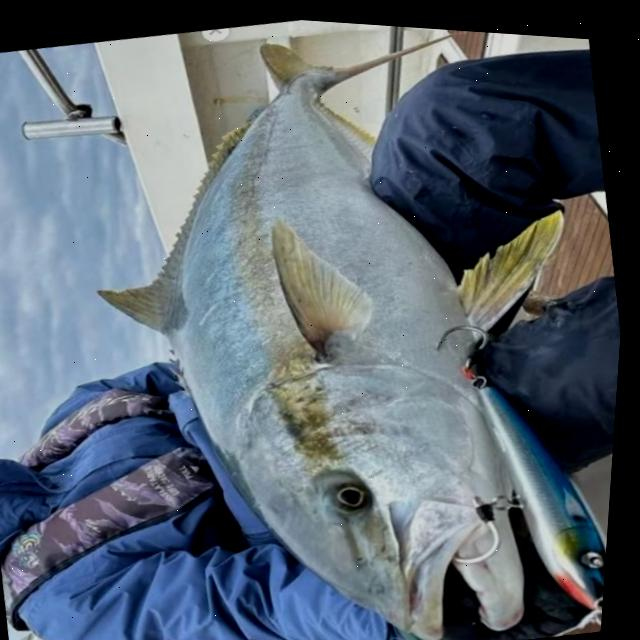Kingfish: (37, 4, 640, 640)
